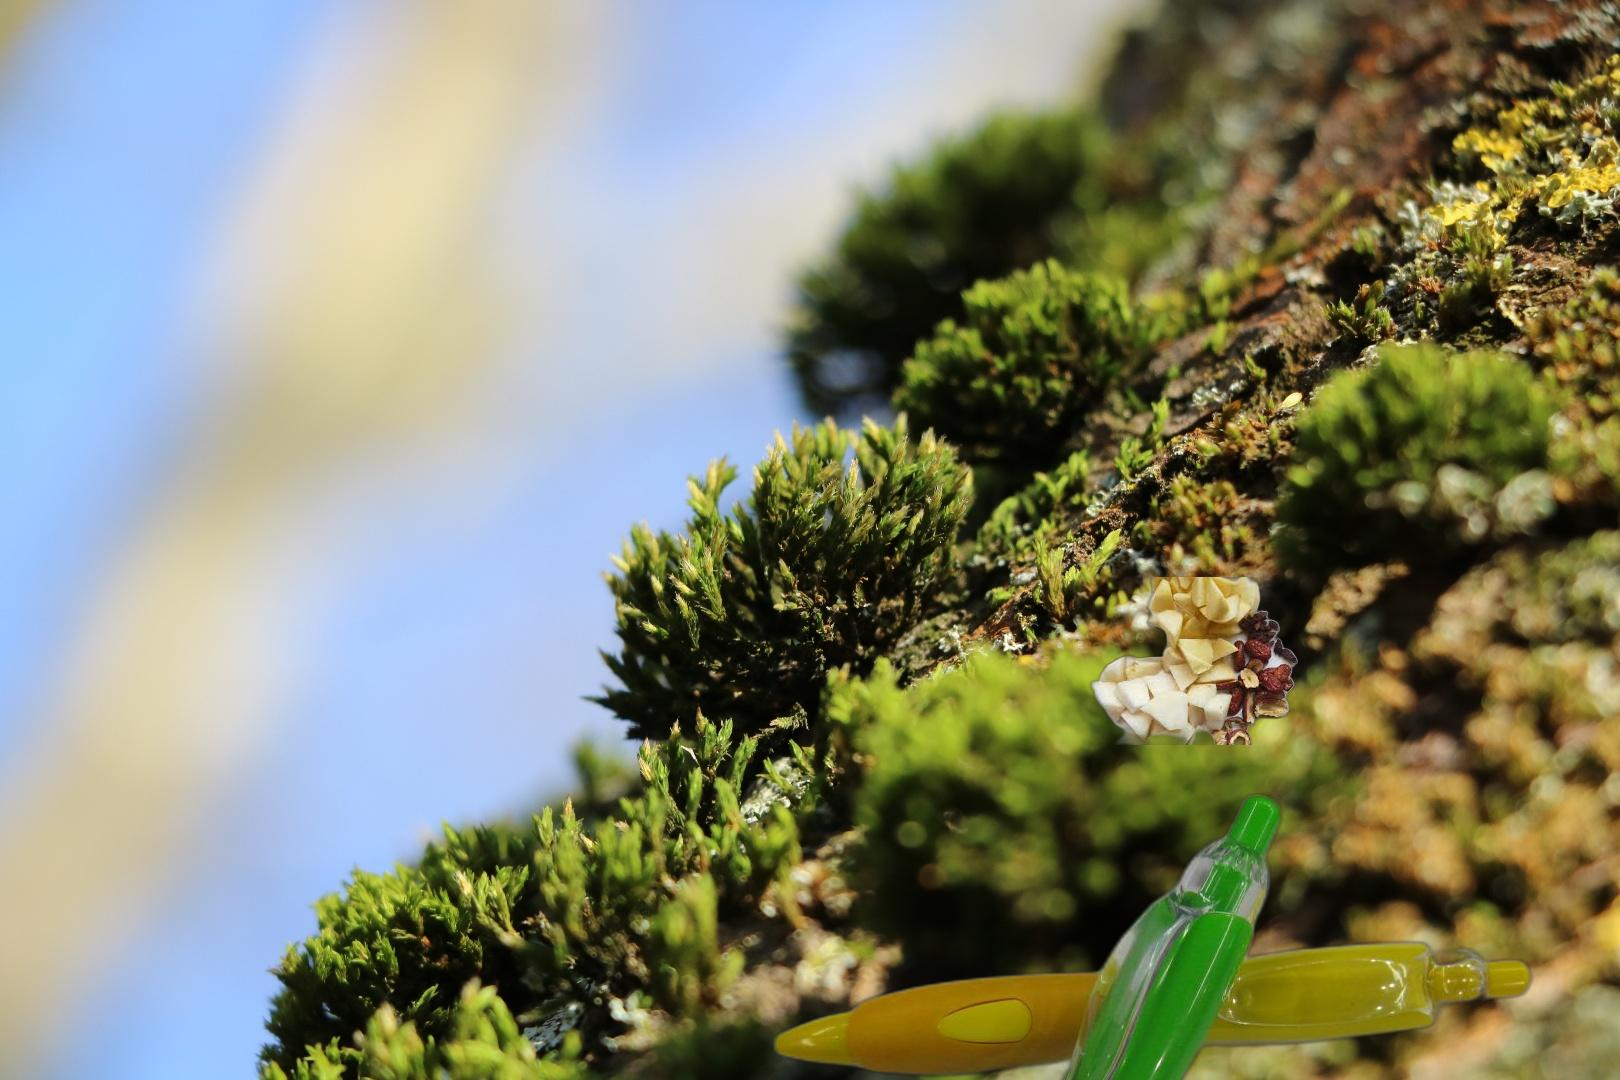biological: (1078, 577, 1301, 745)
penholder: (764, 787, 1540, 1080)
